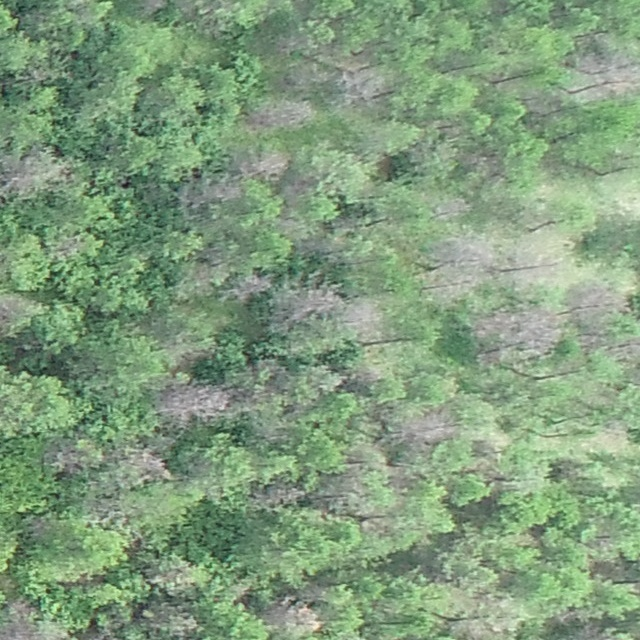unhealthy: (425, 233, 495, 303), (484, 306, 564, 357), (2, 147, 68, 196), (159, 382, 232, 425), (280, 285, 343, 323), (248, 97, 315, 130), (398, 409, 456, 447), (596, 52, 640, 101), (262, 596, 321, 632), (338, 67, 390, 104), (571, 281, 628, 314), (233, 148, 292, 179), (340, 297, 383, 339), (505, 246, 554, 282), (43, 440, 85, 476), (127, 446, 169, 481), (155, 606, 200, 638), (230, 272, 274, 303), (255, 483, 304, 508), (433, 195, 471, 220), (206, 181, 241, 203), (0, 291, 18, 332), (181, 180, 207, 208), (0, 621, 40, 639), (8, 597, 36, 619), (35, 623, 71, 640), (571, 623, 607, 640), (140, 0, 167, 15)
